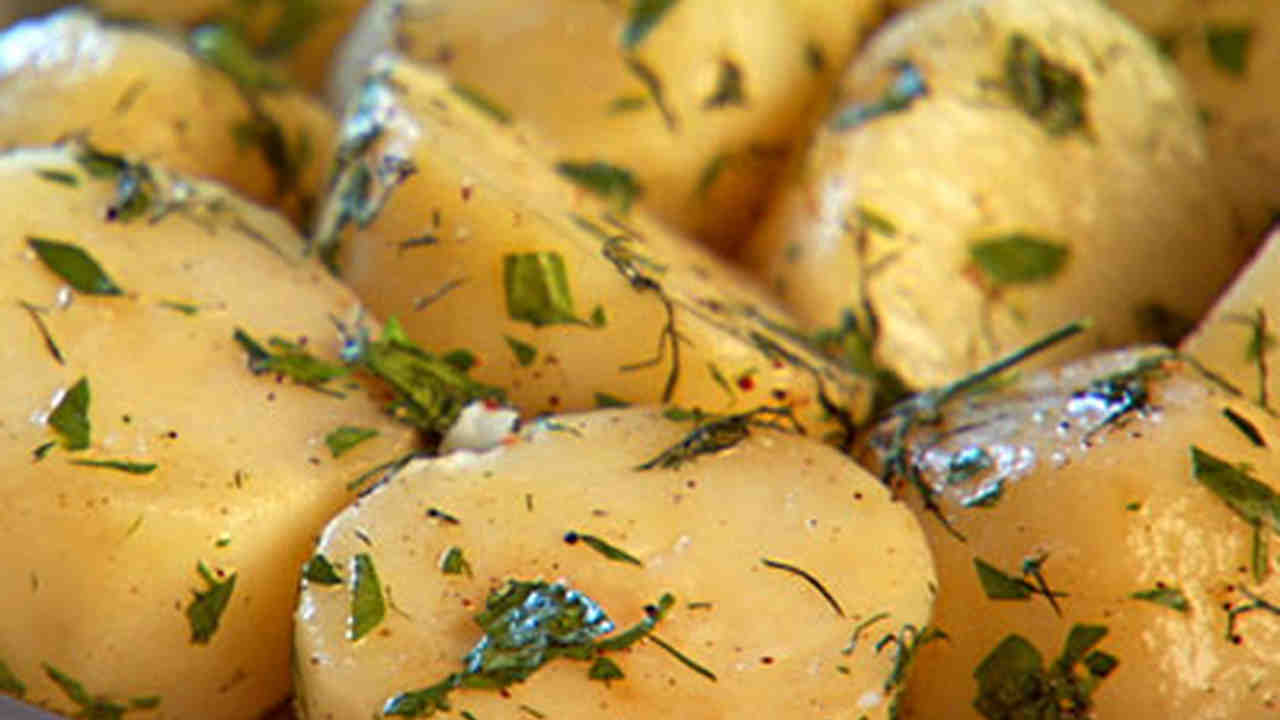boiled potatoes: (24, 8, 1246, 701)
